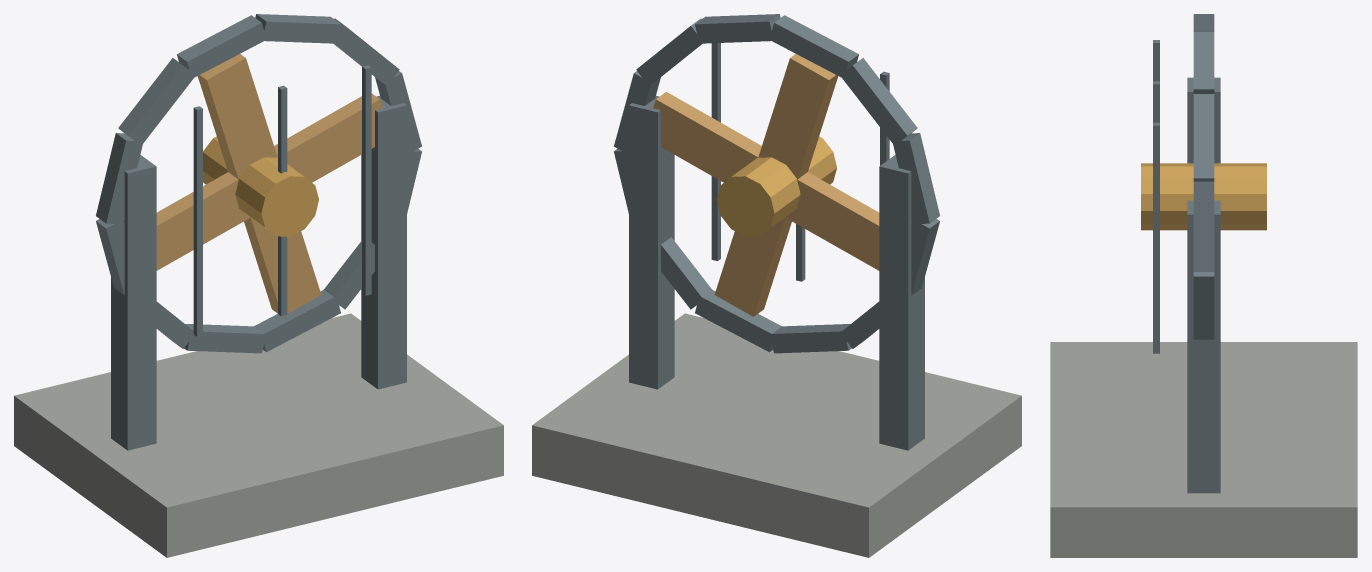
File: SmokeFan.glb
3 views of the same model, side by side, from view 1: azimuth 30°, elevation 25°; view 2: azimuth 150°, elevation 25°; view 3: azimuth 270°, elevation 25° (orthographic).
Parts seen in each view (by area): view 1: Fan base, Fan support, Fan support.001, Rotor blade.001, Axle, Rotor blade.002, Rotor blade, Rotor blade.003, Cage rim.004, Cage rim.003, Front guard.002, Front guard (+10 smaller); view 2: Fan base, Fan support.001, Fan support, Axle, Rotor blade.001, Rotor blade, Rotor blade.002, Rotor blade.003, Cage rim.004, Cage rim.003, Cage rim.005, Cage rim.009 (+8 smaller); view 3: Fan base, Fan support.001, Axle, Cage rim, Cage rim.001, Front guard.002, Cage rim.011, Cage rim.002, Fan support, Cage rim.003.
Part boxes in pixels (left/top/right/bottom): Fan base: left=14, top=313, right=503, bottom=557; Fan support: left=111, top=155, right=156, bottom=450; Fan support.001: left=361, top=95, right=406, bottom=389; Rotor blade.001: left=197, top=54, right=277, bottom=179; Axle: left=203, top=136, right=318, bottom=236; Rotor blade.002: left=156, top=172, right=249, bottom=270; Rotor blade: left=274, top=93, right=382, bottom=182; Rotor blade.003: left=244, top=218, right=321, bottom=316; Cage rim.004: left=118, top=58, right=195, bottom=143; Cage rim.003: left=177, top=15, right=265, bottom=78; Front guard.002: left=362, top=65, right=371, bottom=295; Front guard: left=193, top=106, right=202, bottom=336; Fan base: left=532, top=313, right=1021, bottom=557; Fan support.001: left=629, top=95, right=674, bottom=389; Fan support: left=879, top=155, right=924, bottom=450; Axle: left=717, top=136, right=836, bottom=236; Rotor blade.001: left=758, top=54, right=838, bottom=179; Rotor blade: left=653, top=92, right=761, bottom=182; Rotor blade.002: left=786, top=172, right=879, bottom=270; Rotor blade.003: left=714, top=218, right=791, bottom=316; Cage rim.004: left=840, top=58, right=917, bottom=145; Cage rim.003: left=770, top=15, right=858, bottom=78; Cage rim.005: left=893, top=133, right=939, bottom=224; Cage rim.009: left=695, top=289, right=781, bottom=352; Fan base: left=1050, top=342, right=1357, bottom=557; Fan support.001: left=1187, top=200, right=1220, bottom=493; Axle: left=1141, top=163, right=1266, bottom=230; Cage rim: left=1193, top=181, right=1214, bottom=271; Cage rim.001: left=1193, top=94, right=1214, bottom=181; Front guard.002: left=1153, top=122, right=1159, bottom=353; Cage rim.011: left=1193, top=272, right=1214, bottom=339; Cage rim.002: left=1193, top=32, right=1214, bottom=93; Fan support: left=1187, top=77, right=1220, bottom=163; Cage rim.003: left=1193, top=14, right=1214, bottom=31.
Bounding box in the file's own units: 1.4 × 1.76 × 1.1.
